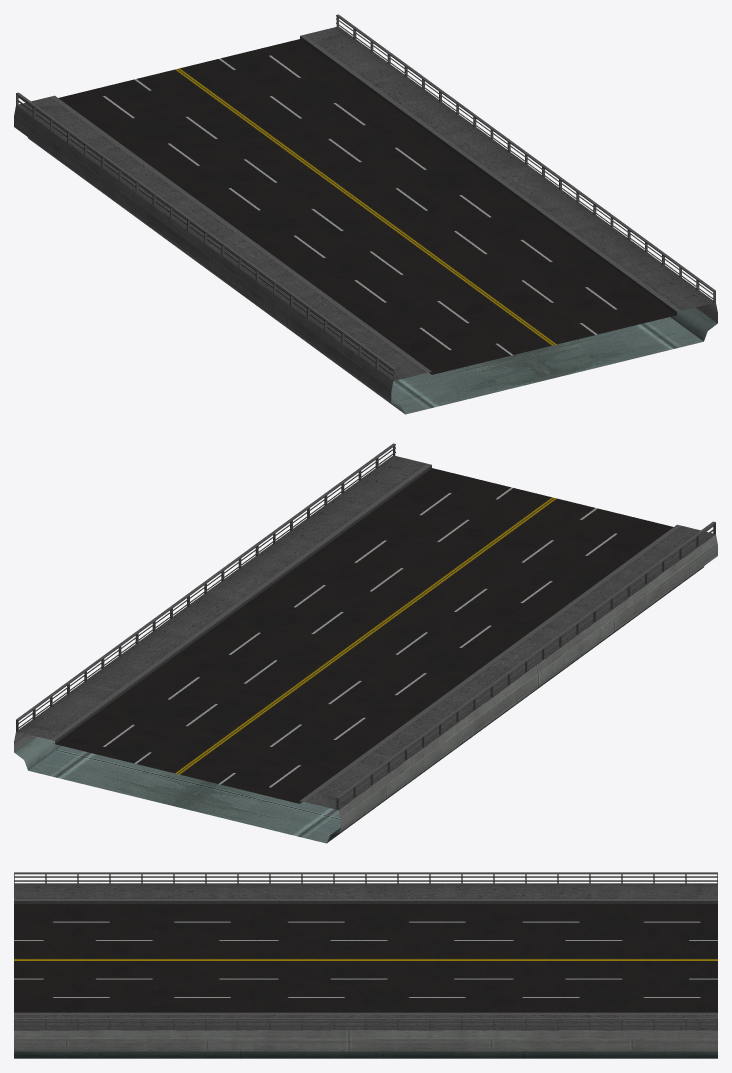
Rendered from RJs_Road 3+3 Elevated Segment.fbx.
The picture shows the model from 3 angles, top to bottom: view 1: azimuth 30°, elevation 25°; view 2: azimuth 150°, elevation 25°; view 3: azimuth 270°, elevation 25°; orthographic projection. The views are drawn at different scales.
Visible parts, largest first — view 1: plane; view 2: plane; view 3: plane.
Part boxes in pixels (x1,y1,x2,y2): plane: (14,14,717,414); plane: (14,443,717,843); plane: (14,872,717,1058).
Size of the model in its own units: 3200 by 6400 by 451.
